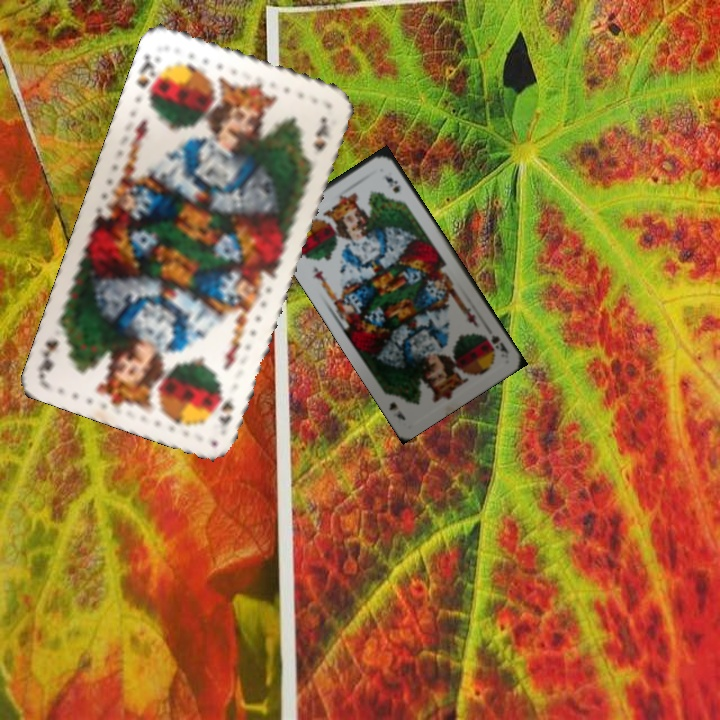SK: (132, 50, 164, 105), (480, 330, 512, 357), (215, 392, 236, 429)
